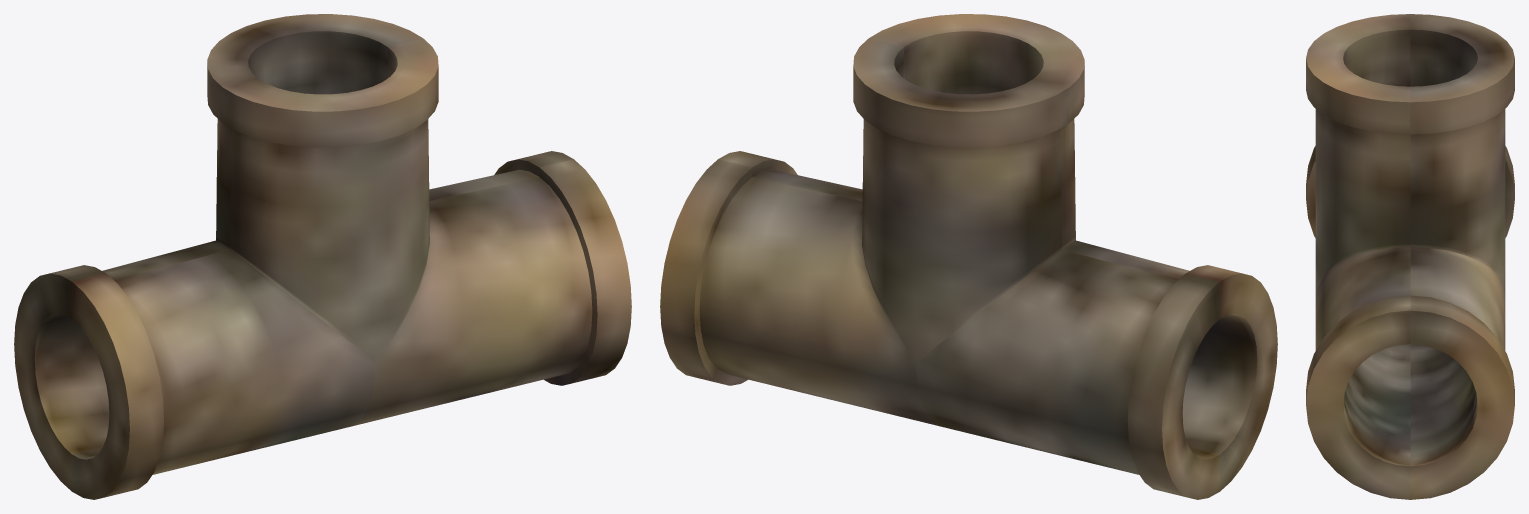
File: pipe-tee.gltf
3 views of the same model, side by side, from view 1: azimuth 30°, elevation 25°; view 2: azimuth 150°, elevation 25°; view 3: azimuth 270°, elevation 25° (orthographic). The views are drawn at different scales.
Visible parts, largest first — view 1: Pipe_5; view 2: Pipe_5; view 3: Pipe_5.
Boxes of the visible parts, bbox=[...] form: Pipe_5: bbox=[14, 14, 631, 499]; Pipe_5: bbox=[660, 14, 1277, 499]; Pipe_5: bbox=[1306, 14, 1514, 499].
Size of the model in its own units: 0.7028 by 0.492 by 0.2811.
1 material, 1 textured.
